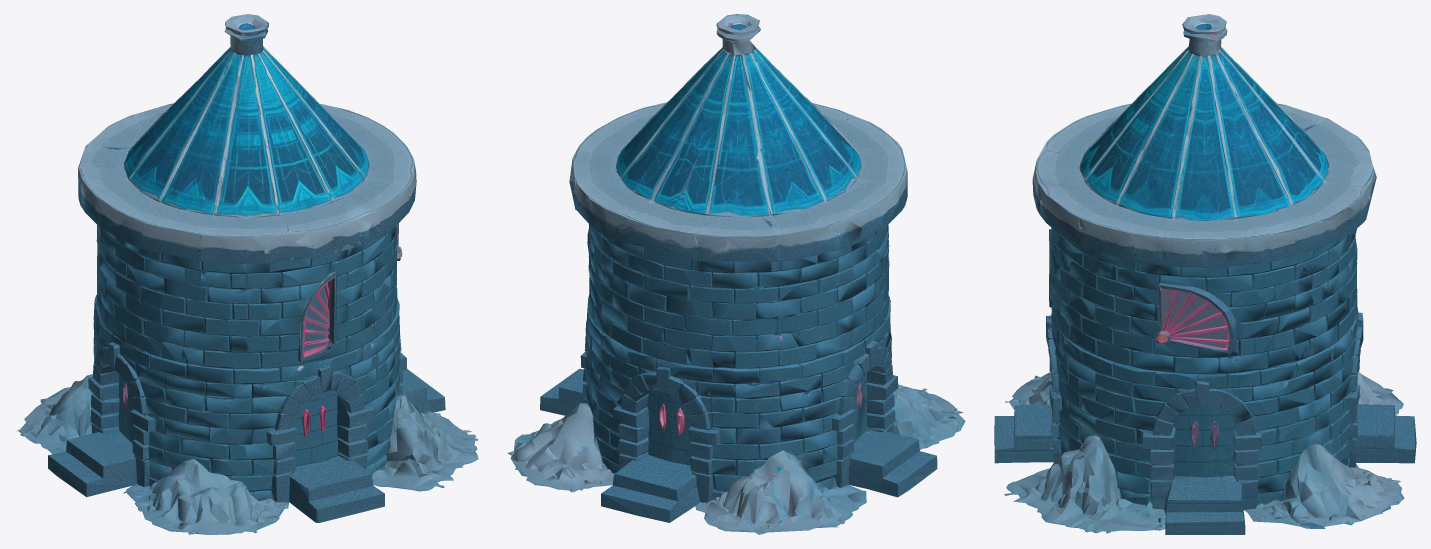
File: mx_sg_tower.glb
The picture shows the model from 3 angles, left to right: view 1: azimuth 30°, elevation 25°; view 2: azimuth 150°, elevation 25°; view 3: azimuth 270°, elevation 25°; orthographic projection.
Size of the model in its own units: 1.72 by 1.9 by 1.72.
Materials: 1 (1 with a texture image).
